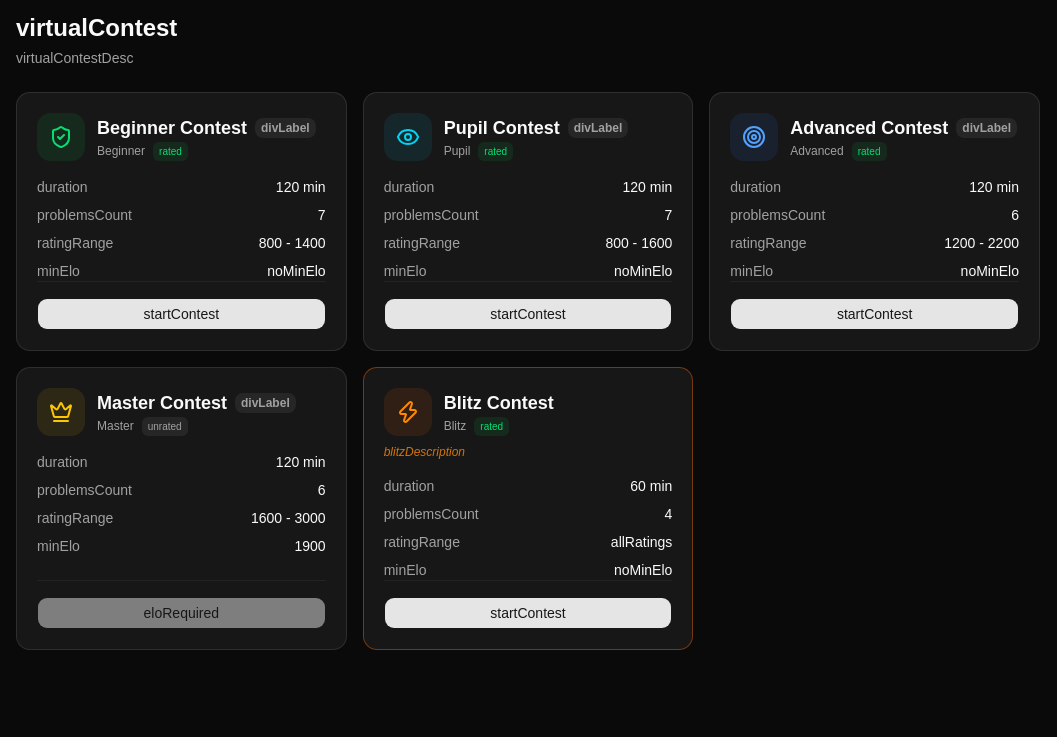
Scenario: ContestPage › shows error when contest start fails
The width and height of the screenshot is (1057, 737).
Expected: the heading "Beginner Contest" is shown, [97,114,247,142]
Click the eligible tier's start button
Click the button "startContest" below "800 - 1400" at (181, 314), box [37,298,326,330]
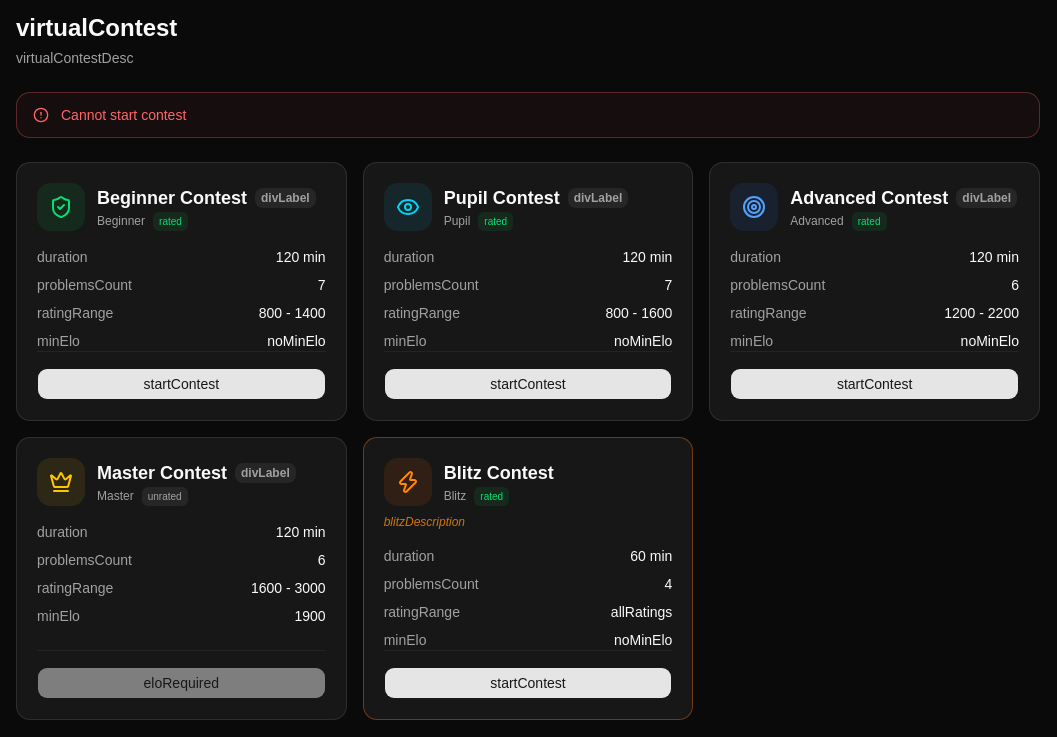
Expected: the text "Cannot start contest" is shown, [61,107,186,123]
